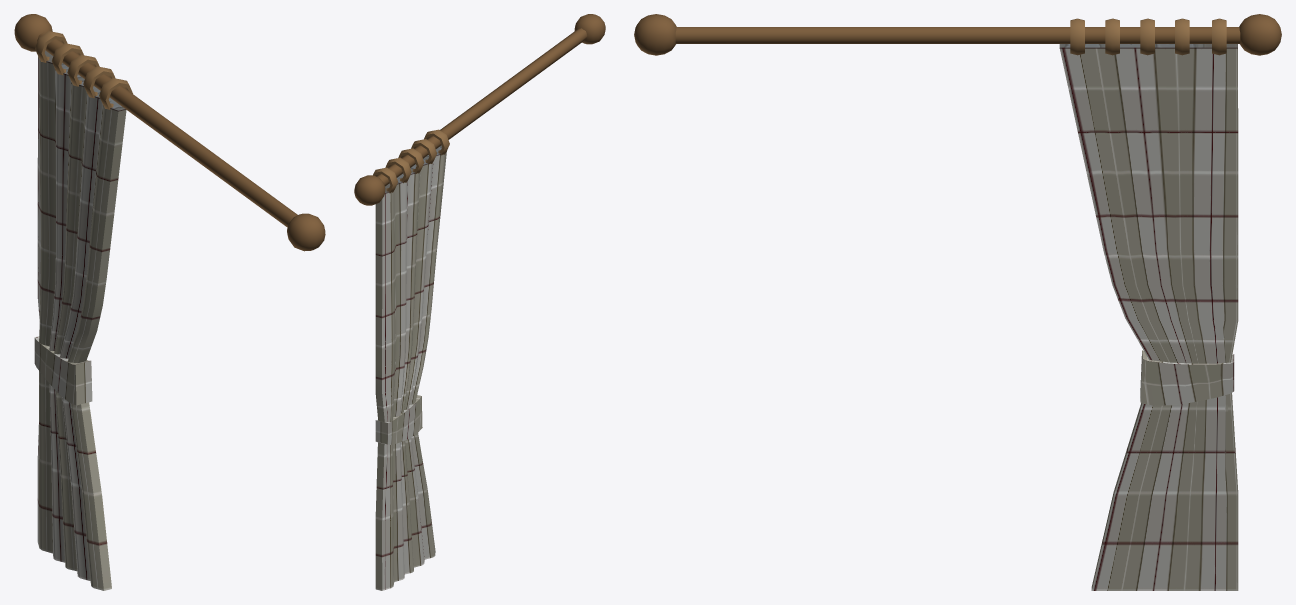
File: SM_Prop_Curtains_05.obj
3 views of the same model, side by side, from view 1: azimuth 30°, elevation 25°; view 2: azimuth 150°, elevation 25°; view 3: azimuth 270°, elevation 25° (orthographic). The views are drawn at different scales.
Parts seen in each view (by area): view 1: SM_Prop_Curtains_05_Mat_SwatchOverlay_Farm_Main_01_Inst, SM_Prop_Curtains_05_Mat_SwatchOverlay_Farm_01_Wood_Inst; view 2: SM_Prop_Curtains_05_Mat_SwatchOverlay_Farm_Main_01_Inst, SM_Prop_Curtains_05_Mat_SwatchOverlay_Farm_01_Wood_Inst; view 3: SM_Prop_Curtains_05_Mat_SwatchOverlay_Farm_Main_01_Inst, SM_Prop_Curtains_05_Mat_SwatchOverlay_Farm_01_Wood_Inst.
Boxes of the visible parts, <box> form: SM_Prop_Curtains_05_Mat_SwatchOverlay_Farm_Main_01_Inst: <box>34,50,126,590</box>; SM_Prop_Curtains_05_Mat_SwatchOverlay_Farm_01_Wood_Inst: <box>14,14,325,251</box>; SM_Prop_Curtains_05_Mat_SwatchOverlay_Farm_Main_01_Inst: <box>375,145,446,590</box>; SM_Prop_Curtains_05_Mat_SwatchOverlay_Farm_01_Wood_Inst: <box>354,14,605,205</box>; SM_Prop_Curtains_05_Mat_SwatchOverlay_Farm_Main_01_Inst: <box>1059,44,1238,590</box>; SM_Prop_Curtains_05_Mat_SwatchOverlay_Farm_01_Wood_Inst: <box>634,14,1281,55</box>.
Size of the model in its own units: 0.2718 by 4.16 by 4.26.
Materials: 3 (2 with a texture image).
